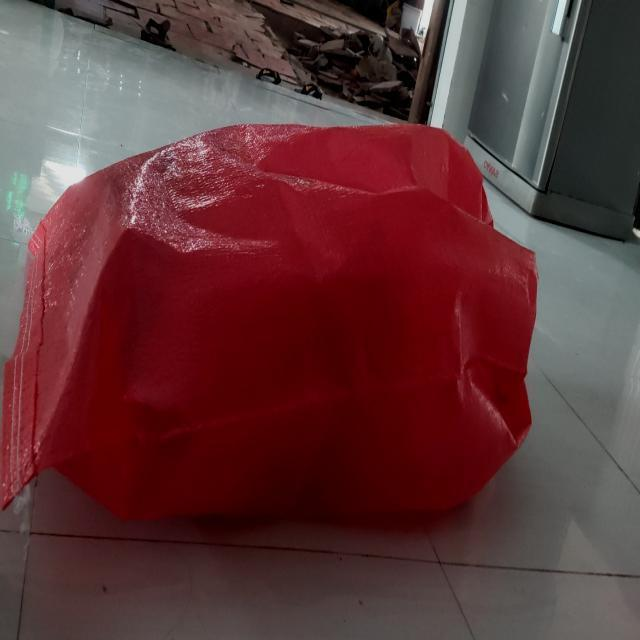gunny_bag: (0, 124, 538, 519)
